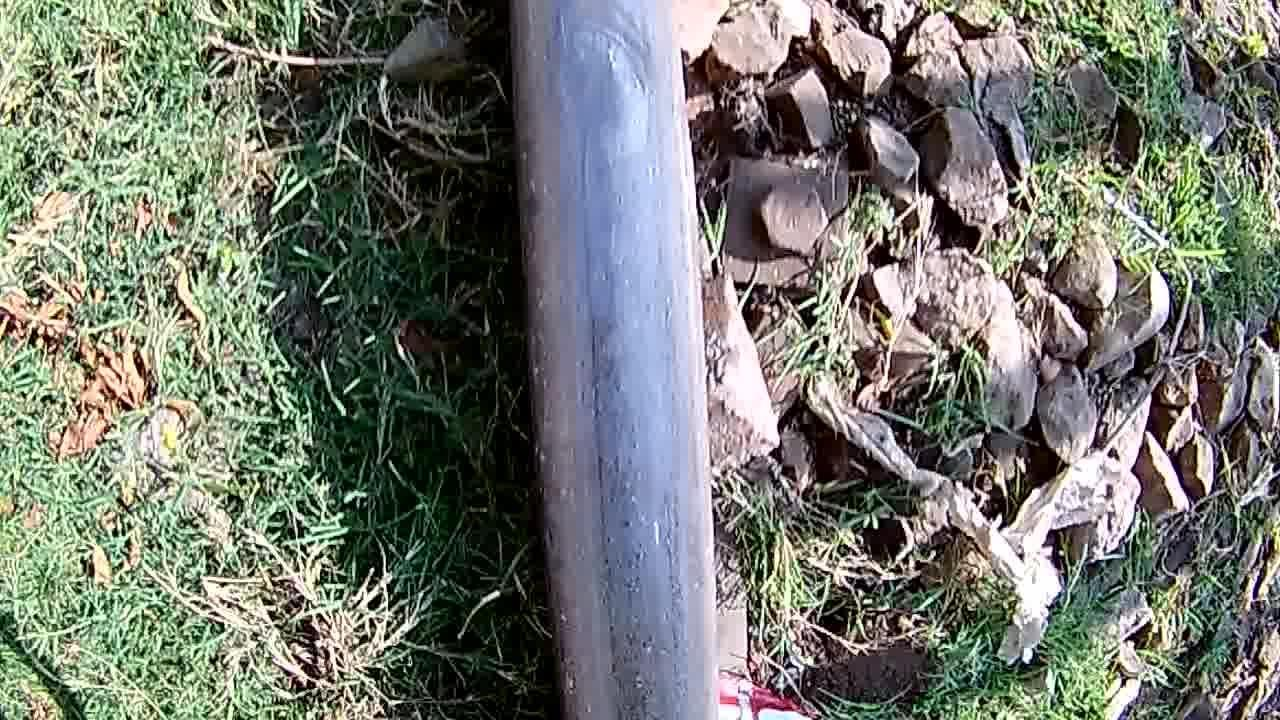crack: (504, 0, 692, 715)
